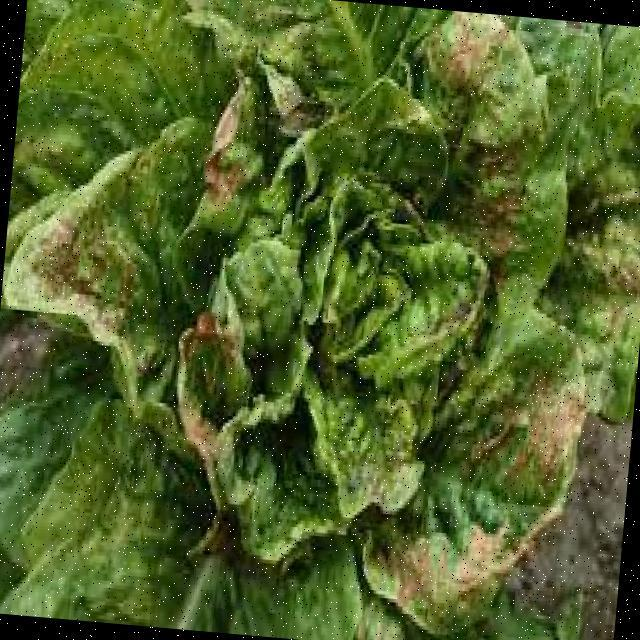Lettuce Mosaic Virus: (5, 0, 597, 632)
